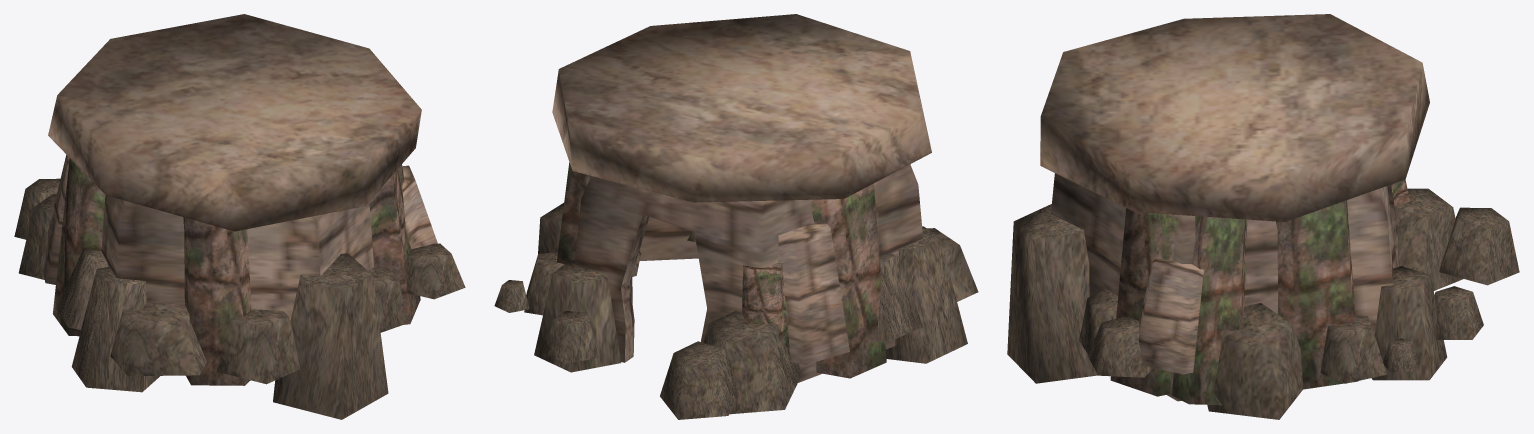
File: thm_dant_large_rock_hut_l2.fbx
3 renders of one model, left to right at view 1: azimuth 30°, elevation 25°; view 2: azimuth 150°, elevation 25°; view 3: azimuth 270°, elevation 25°, orthographic. The views are drawn at different scales.
Visible parts, largest first — view 1: mesh_node; view 2: mesh_node; view 3: mesh_node.
Boxes of the visible parts, left/top/right/bottom form: mesh_node: left=14, top=14, right=465, bottom=419; mesh_node: left=494, top=14, right=978, bottom=419; mesh_node: left=1007, top=14, right=1519, bottom=419.
Bounding box in the file's own units: 11.29 × 7.51 × 12.88.
Materials: 1 (1 with a texture image).
